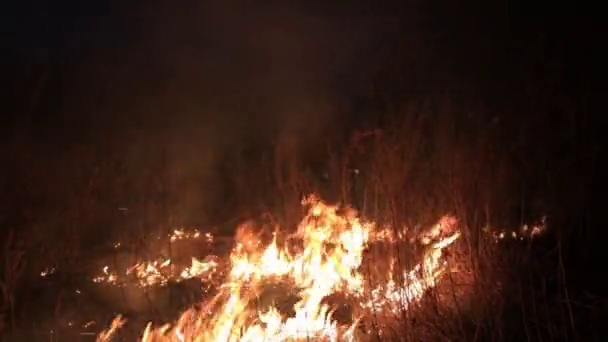fire: (225, 198, 374, 295), (140, 295, 361, 342), (384, 251, 440, 306), (422, 220, 458, 246), (134, 262, 162, 283), (184, 257, 213, 275)
